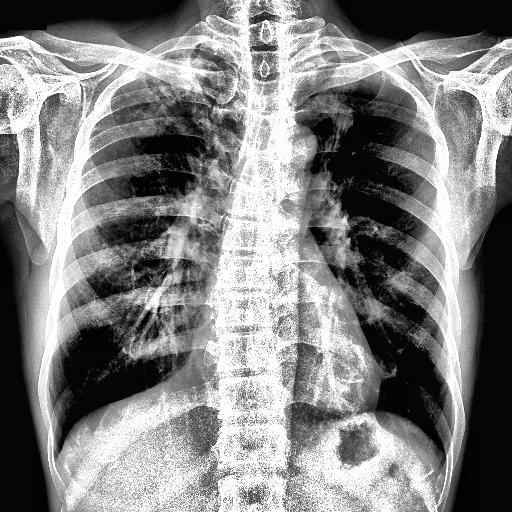11- Pleural thickening: (296, 43, 361, 66)
13- Pulmonary fibrosis: (102, 42, 236, 136), (110, 49, 236, 139), (103, 77, 190, 139), (312, 82, 349, 178), (312, 72, 351, 155), (330, 102, 354, 132)
7- Lung Opacity: (103, 77, 190, 139)
8- Nodule-Mass: (330, 102, 354, 132)
